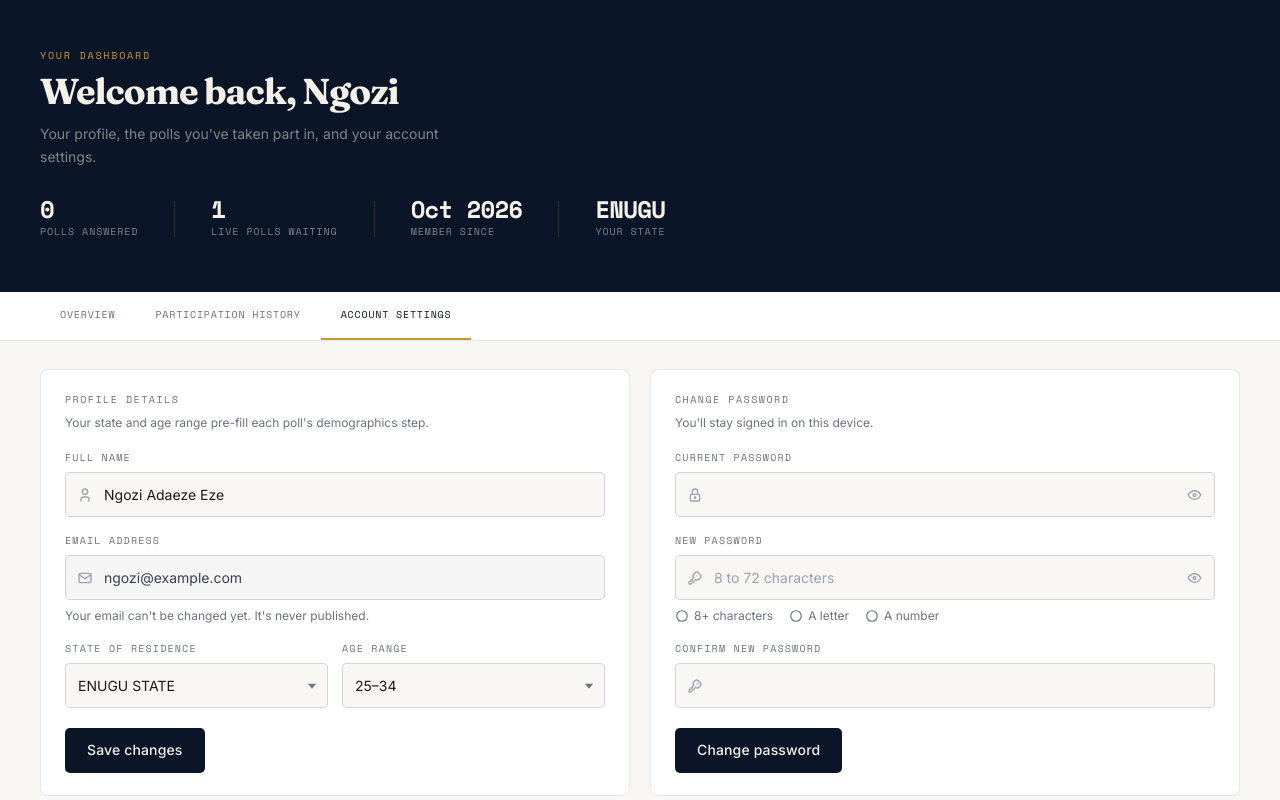
Scenario: profile details › says the session ended on a 401
expect the form named "Profile details" is shown: met, box [65,450,605,773]
In the field labelled "Full name": (335, 495) [65,472,605,517], type " Junior"
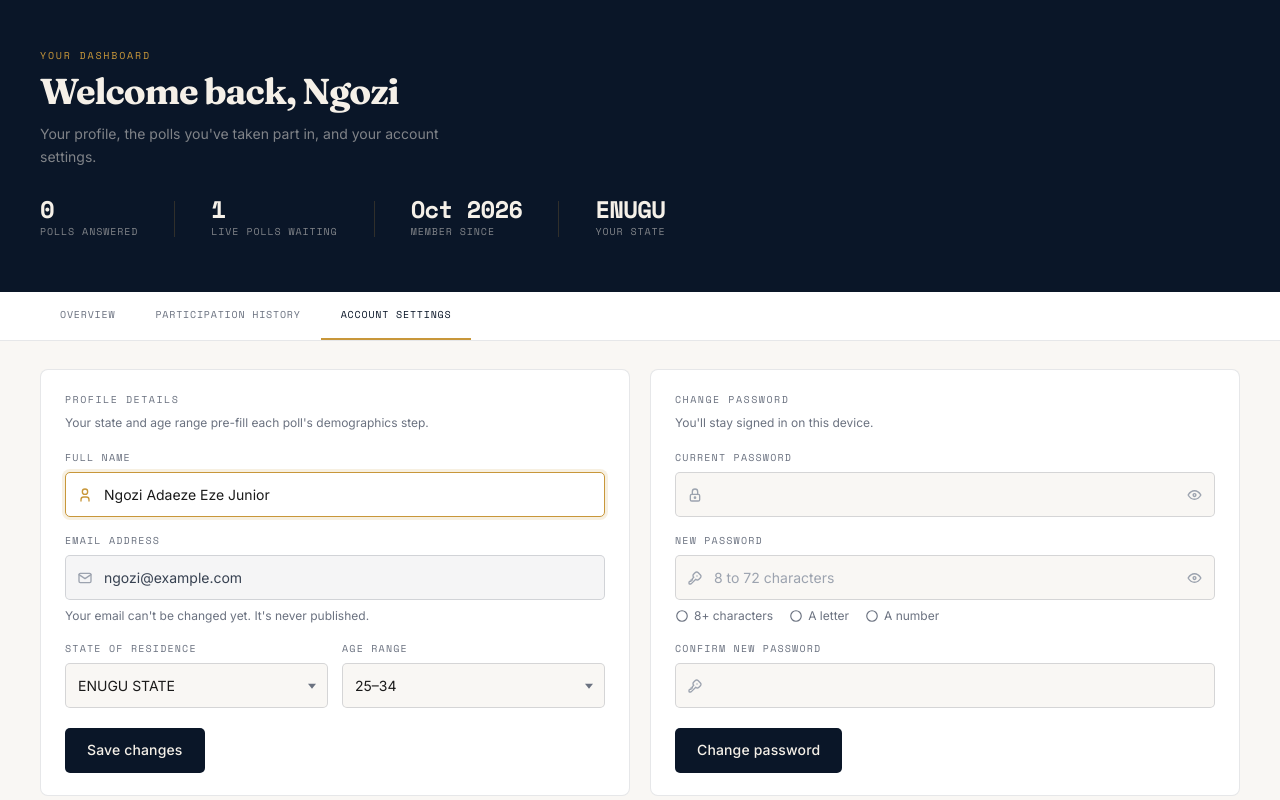
Click the button "Save changes": (135, 751) [65,728,204,773]
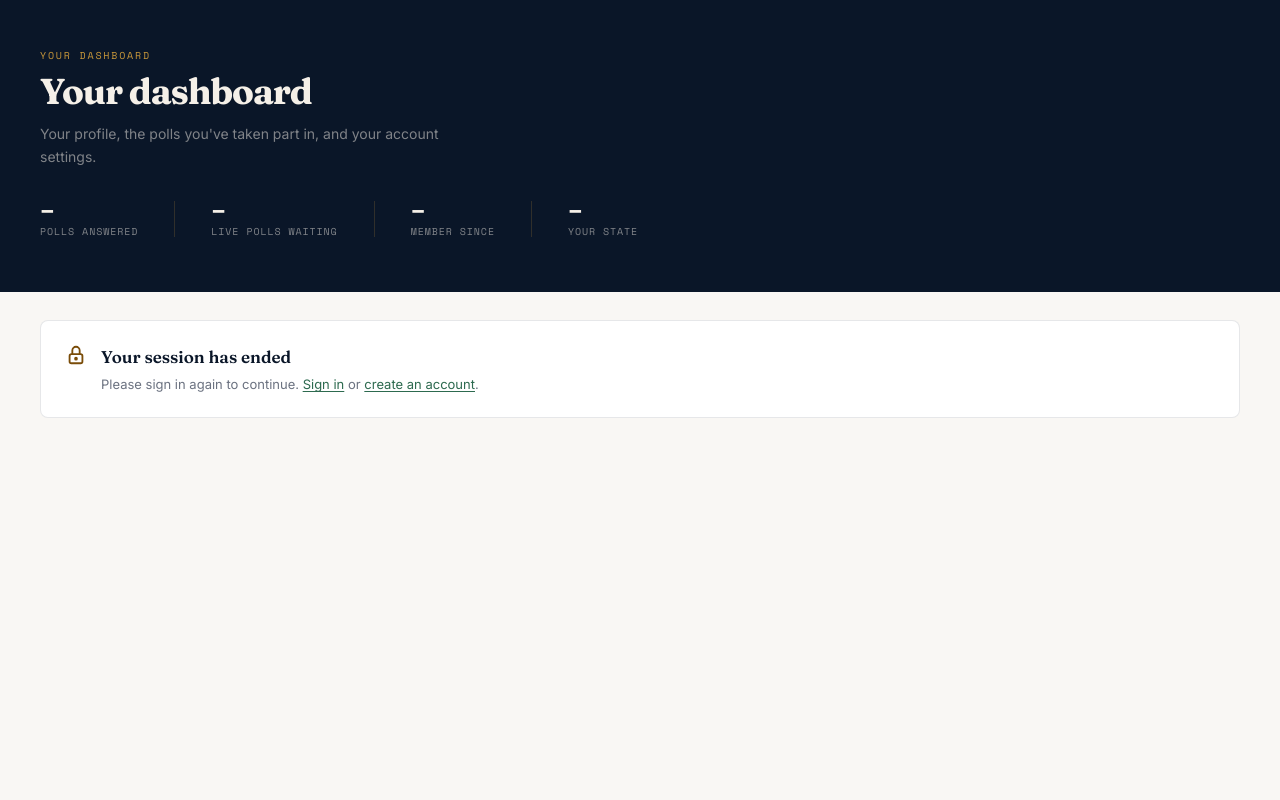
expect the text "Your session has ended" is shown: met, box [101,346,291,367]
